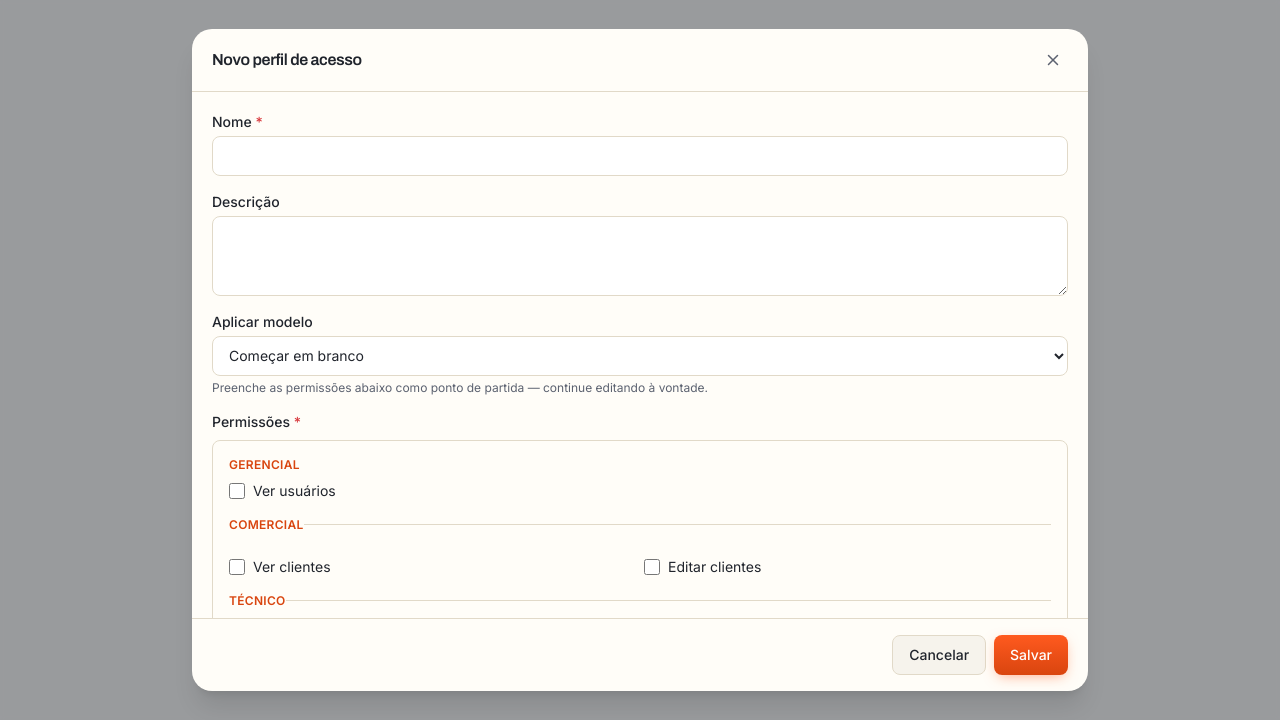
Test: PerfilFormModal › applies the OPERACIONAL preset, checking its predefined permissions
The width and height of the screenshot is (1280, 720).
Select "Operacional — foco em OS" in the dropdown labelled "Aplicar modelo" at (640, 356), box [212,336,1068,376]
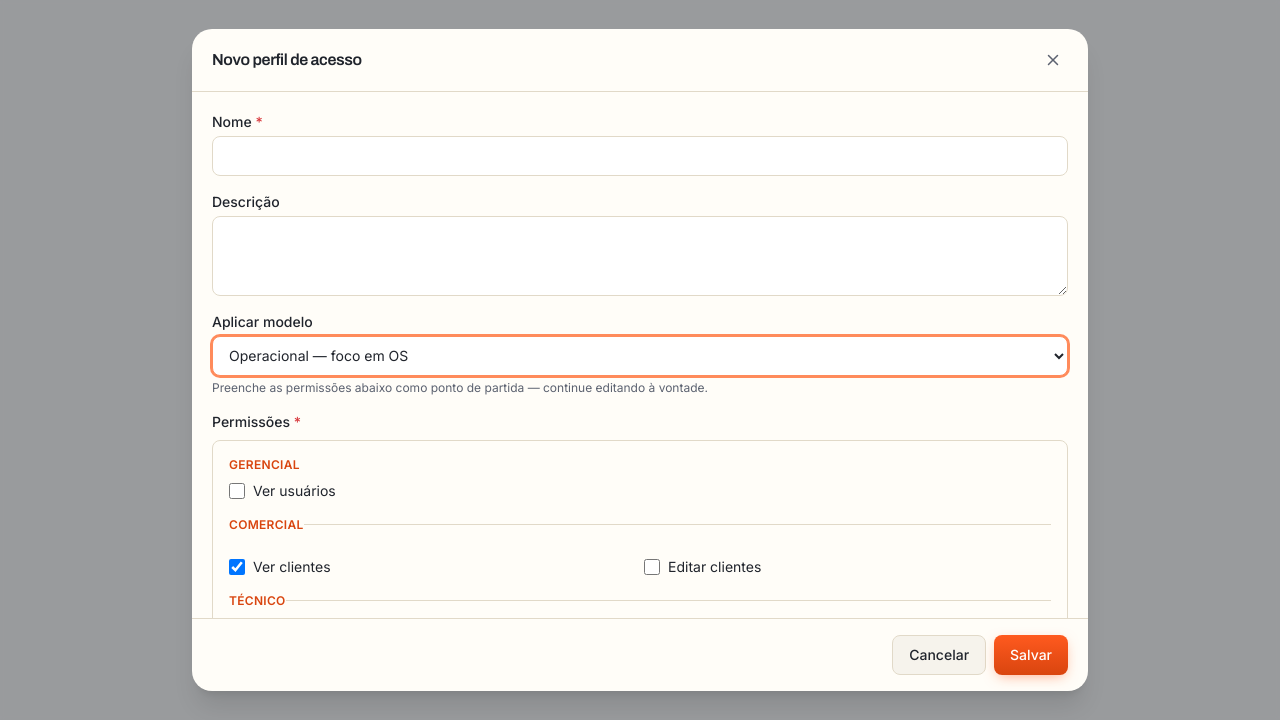
Expected: the checkbox labelled "Editar clientes" is not checked, [644,559,660,575]
Result: the checkbox labelled "Ver clientes" is checked at [229,559,245,575]
